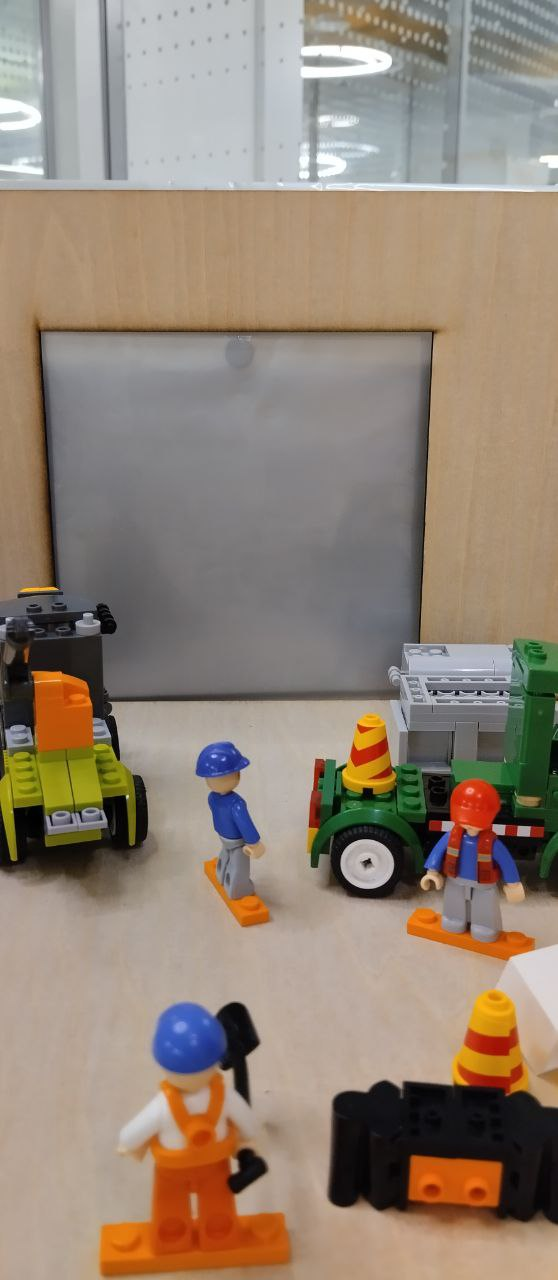Cone: (460, 990, 530, 1099), (343, 701, 399, 796)
Crane: (1, 576, 152, 886)
Object Black: (325, 1077, 558, 1238)
Truck: (309, 640, 558, 905)
